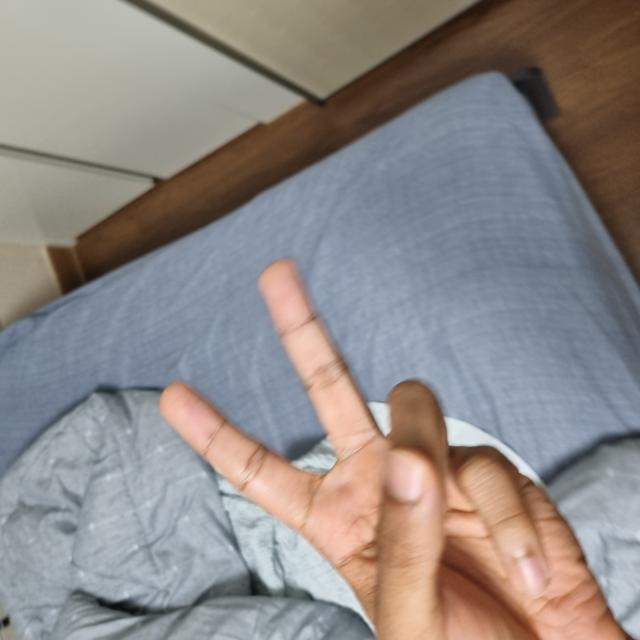Scissors: (0, 161, 375, 620)
